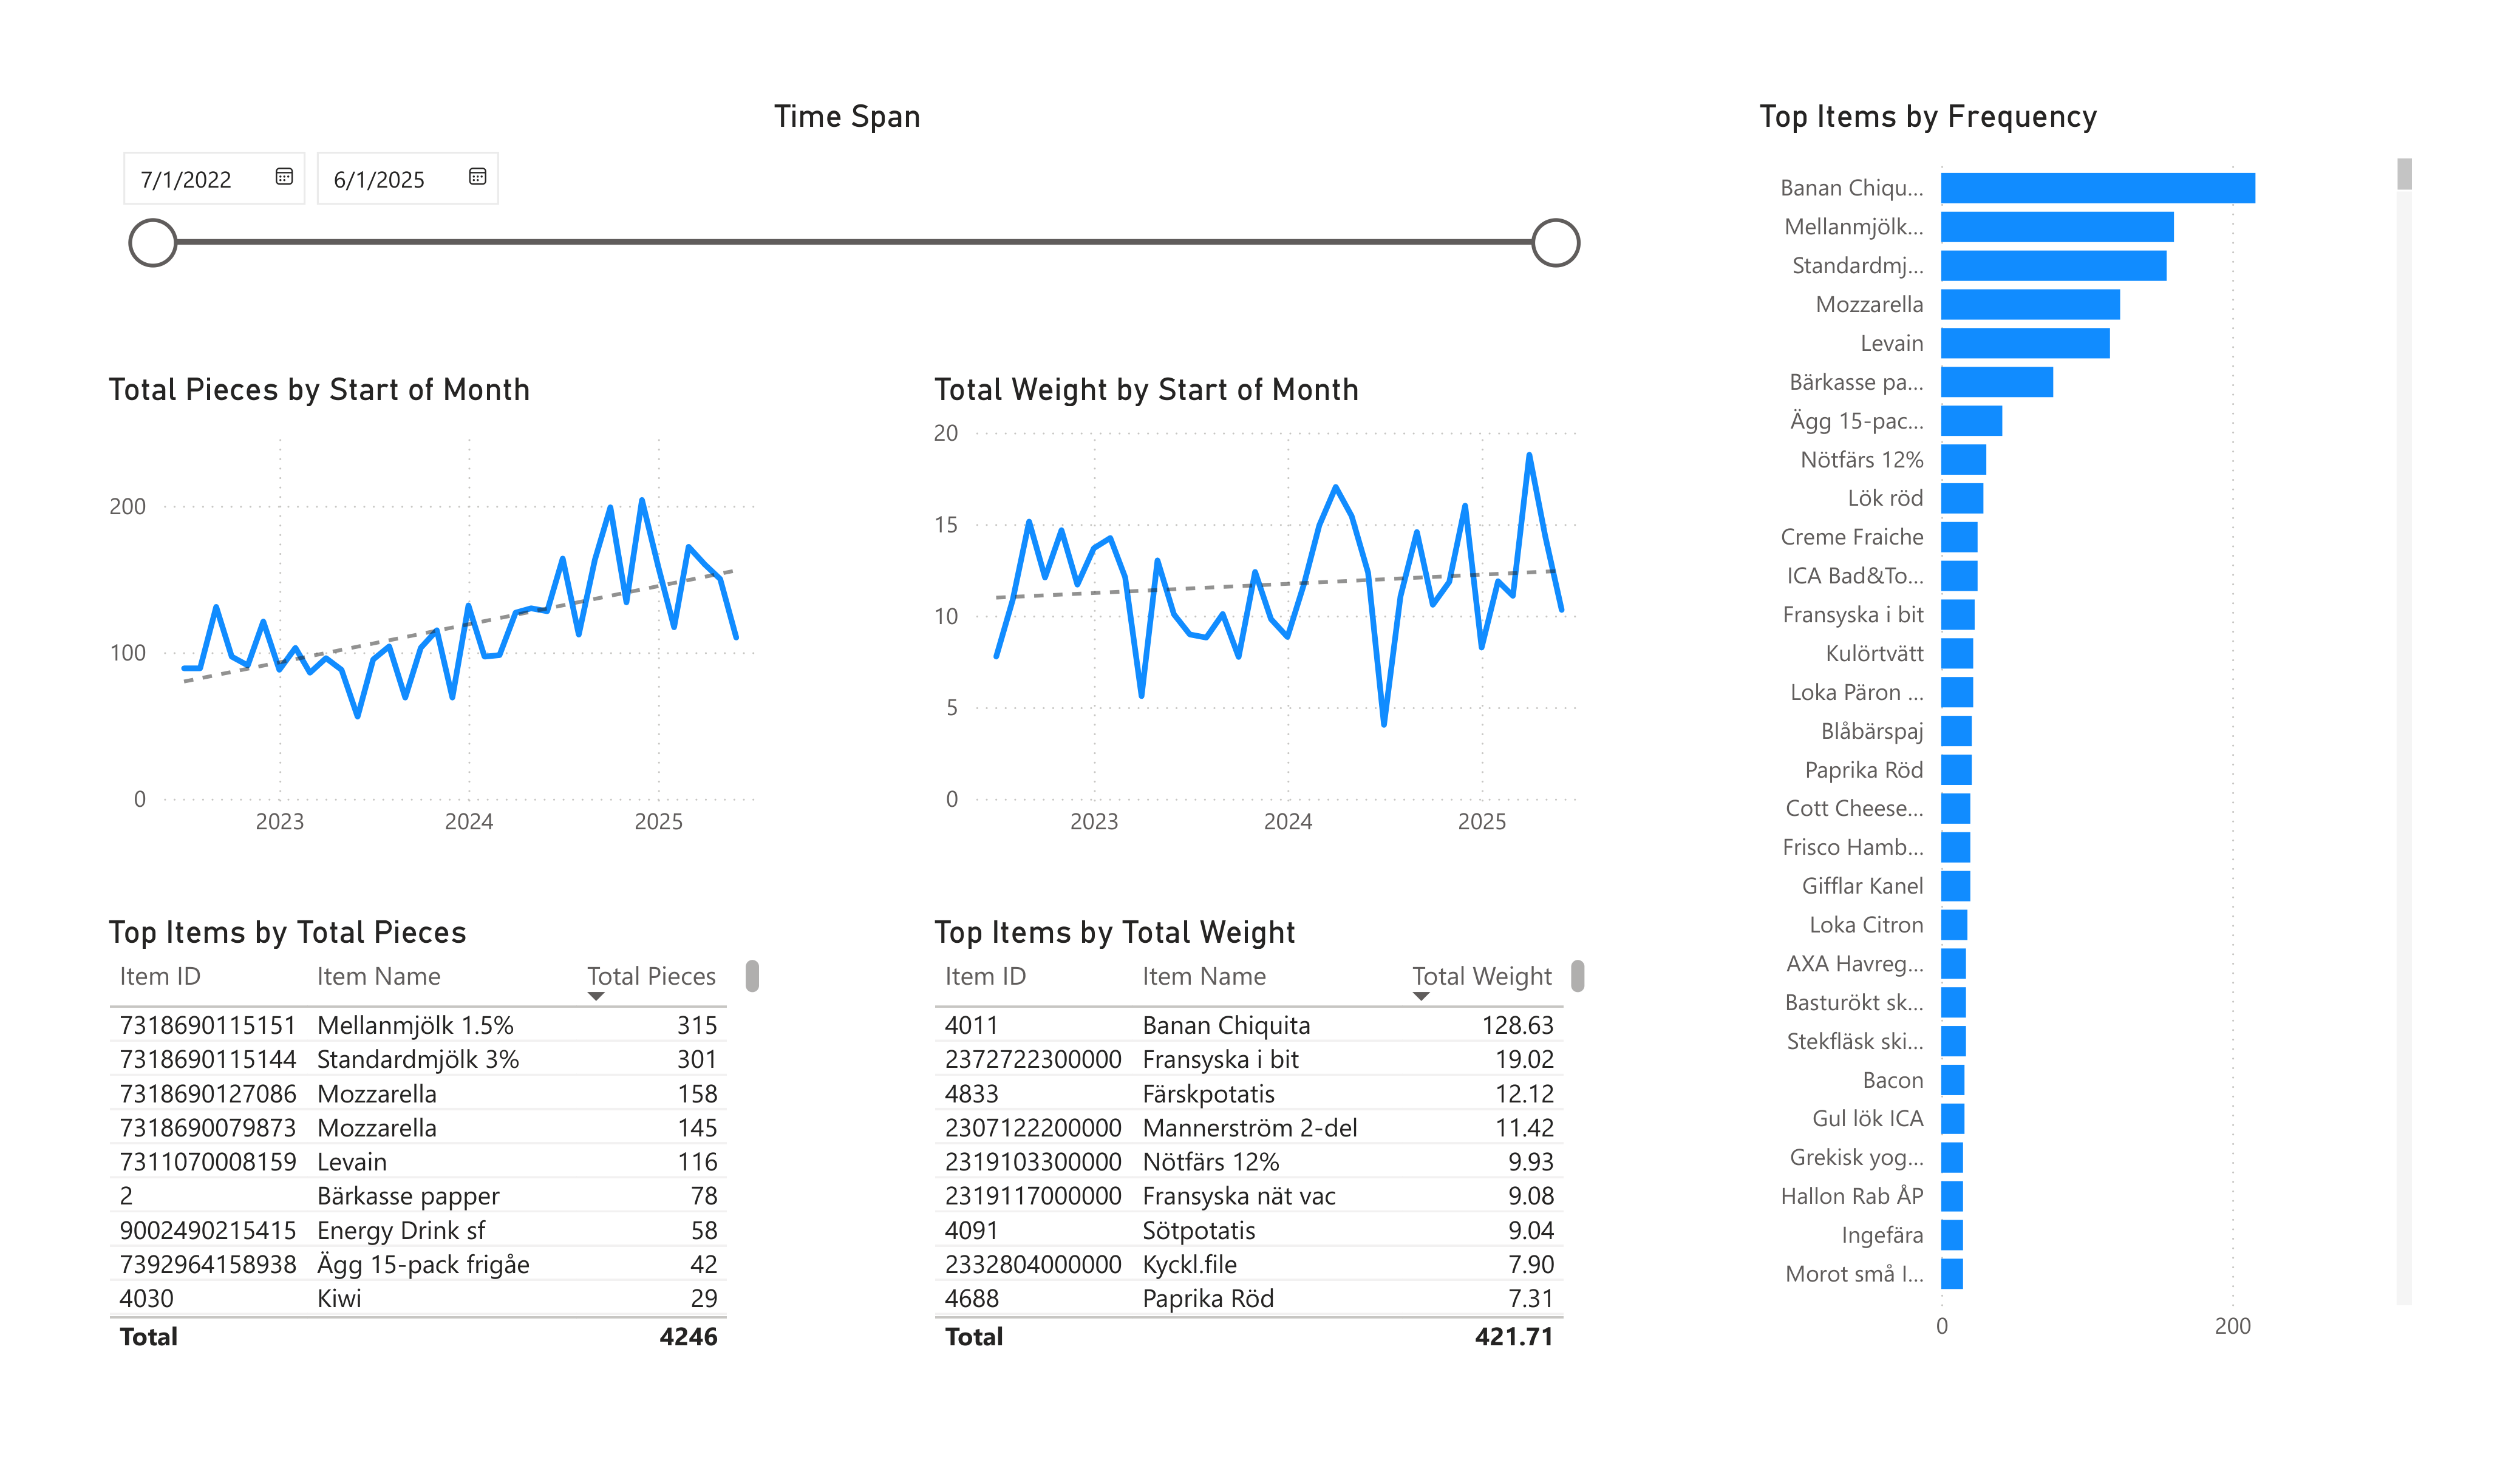

This screenshot's page, from the dashboard's own definition file:
{"tool":"powerbi","page":{"name":"Quantity","canvas":[1280,720],"ordinal":2},"visuals":[{"type":"tableEx","title":"Top Items by Total Weight","fields":{"Values":["Item Lookup.Item ID","Item Lookup.Item Name","Measure Table.Total Weight"]},"box":[463.1,457.1,353.9,235.7],"z":1000},{"type":"tableEx","title":"Top Items by Total Pieces","fields":{"Values":["Item Lookup.Item ID","Item Lookup.Item Name","Measure Table.Total Pieces"]},"box":[28.4,457.1,353.9,235.7],"z":2000},{"type":"slicer","title":"Time Span","fields":{"Values":["Calendar Lookup.Start of Month"]},"box":[28.3,26.8,788.3,114.7],"z":3000},{"type":"clusteredBarChart","title":"Top Items by Frequency","fields":{"Category":["Item Lookup.Item Name"],"Y":["Measure Table.Total Receipts"]},"box":[897.7,26.9,353.9,665.8],"z":4000},{"type":"lineChart","fields":{"Category":["Calendar Lookup.Calendar Hierarchy.Start of Month","Calendar Lookup.Calendar Hierarchy.Start of Week","Calendar Lookup.Calendar Hierarchy.Date"],"Y":["Measure Table.Total Pieces"]},"box":[28.4,170.6,353.9,256.6],"z":5000},{"type":"lineChart","fields":{"Category":["Calendar Lookup.Calendar Hierarchy.Start of Month","Calendar Lookup.Calendar Hierarchy.Start of Week","Calendar Lookup.Calendar Hierarchy.Date"],"Y":["Measure Table.Total Weight"]},"box":[463.1,170.6,353.9,256.6],"z":6000}]}

Visuals, with their boxes on the page's 1280x720 design canvas (x1, y1, x2, y2). These are canvas units, not pixel positions in the 2520x1457 screenshot, which may show the page scaled, cropped or inside an application window:
"Top Items by Total Weight" tableEx: (463,457,817,693)
"Top Items by Total Pieces" tableEx: (28,457,382,693)
"Time Span" slicer: (28,27,817,142)
"Top Items by Frequency" clusteredBarChart: (898,27,1252,693)
lineChart - Calendar Lookup.Calendar Hierarchy.Start of Month x Calendar Lookup.Calendar Hierarchy.Start of Week: (28,171,382,427)
lineChart - Calendar Lookup.Calendar Hierarchy.Start of Month x Calendar Lookup.Calendar Hierarchy.Start of Week: (463,171,817,427)
